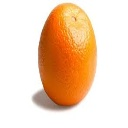orange: (38, 1, 97, 108)
